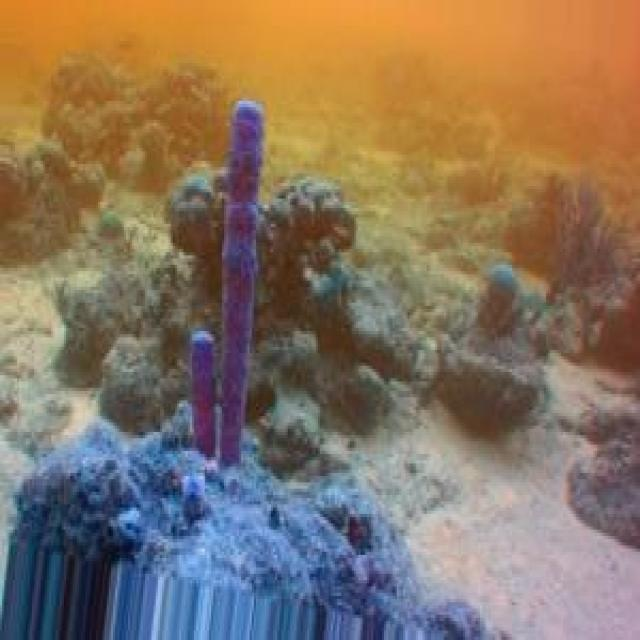Healthy: (82, 417, 432, 640), (426, 266, 640, 471), (193, 102, 268, 468)
